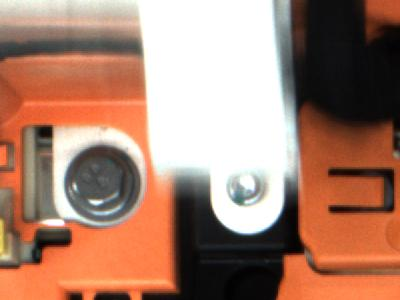nut_b: (64, 146, 142, 223)
